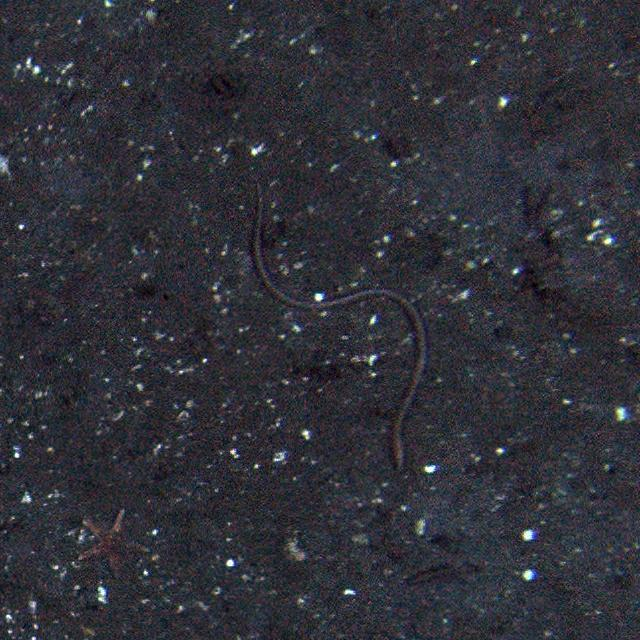eel: (249, 180, 432, 472)
